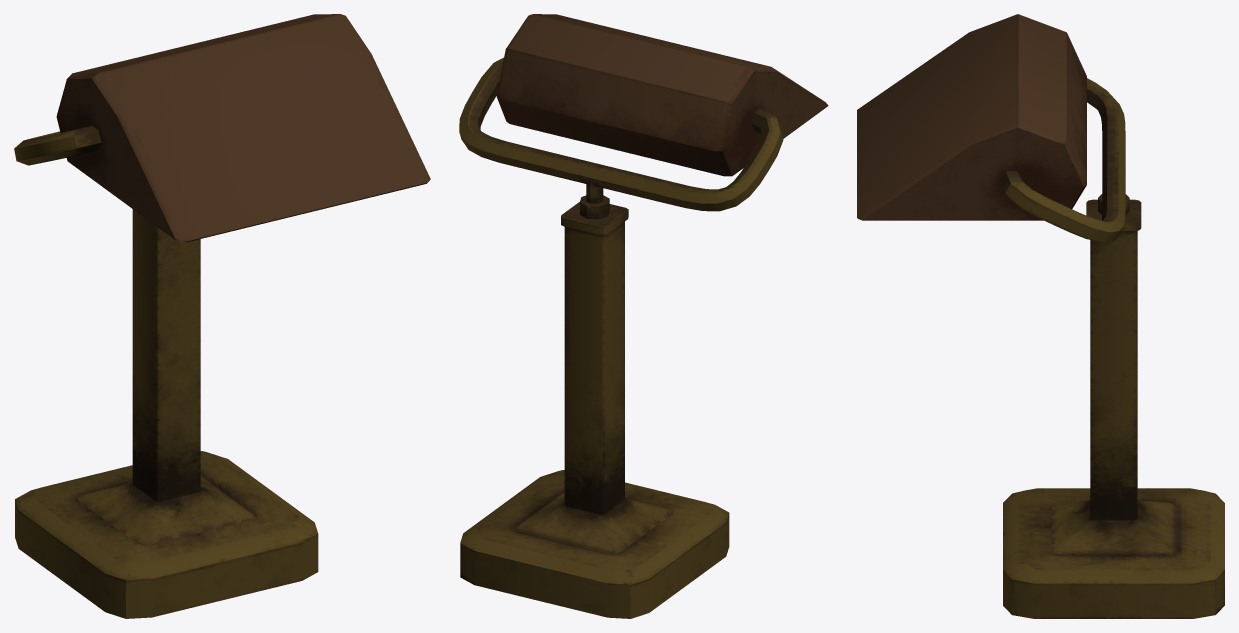
The model's file is PROP_DeskLamp_C_v01.fbx.
The picture shows the model from 3 angles, left to right: view 1: azimuth 30°, elevation 25°; view 2: azimuth 150°, elevation 25°; view 3: azimuth 270°, elevation 25°; orthographic projection. The views are drawn at different scales.
Visible parts, largest first — view 1: Cube; view 2: Cube; view 3: Cube.
Boxes of the visible parts, box(x1,y1,x2,y2) form: Cube: box(14, 14, 430, 618); Cube: box(459, 14, 828, 618); Cube: box(857, 14, 1224, 618).
Size of the model in its own units: 0.3995 by 0.6331 by 0.4183.
